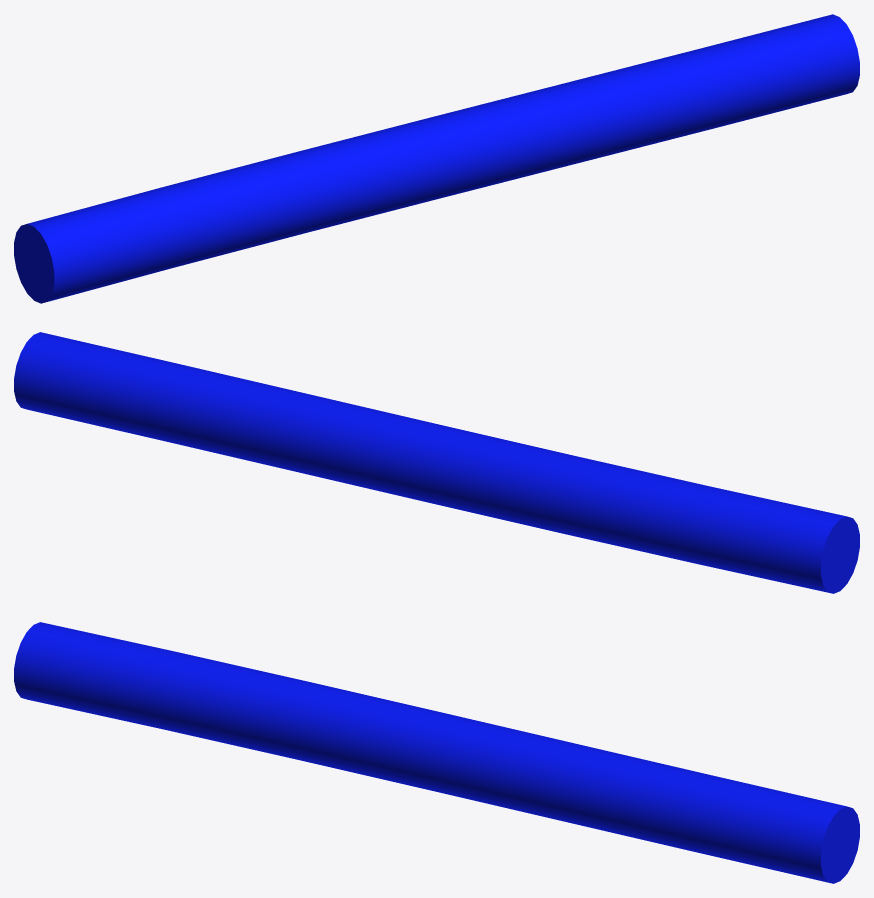
The model's file is wood_03.FBX.
3 renders of one model, top to bottom at view 1: azimuth 30°, elevation 25°; view 2: azimuth 150°, elevation 25°; view 3: azimuth 330°, elevation 25°, orthographic. The views are drawn at different scales.
Visible parts, largest first — view 1: wood_05_LP; view 2: wood_05_LP; view 3: wood_05_LP.
Boxes of the visible parts, x1,y1,x2,y2 form: wood_05_LP: (14, 14, 859, 303); wood_05_LP: (14, 332, 859, 593); wood_05_LP: (14, 622, 859, 883).
Bounding box in the file's own units: 250 × 21.62 × 28.29.
